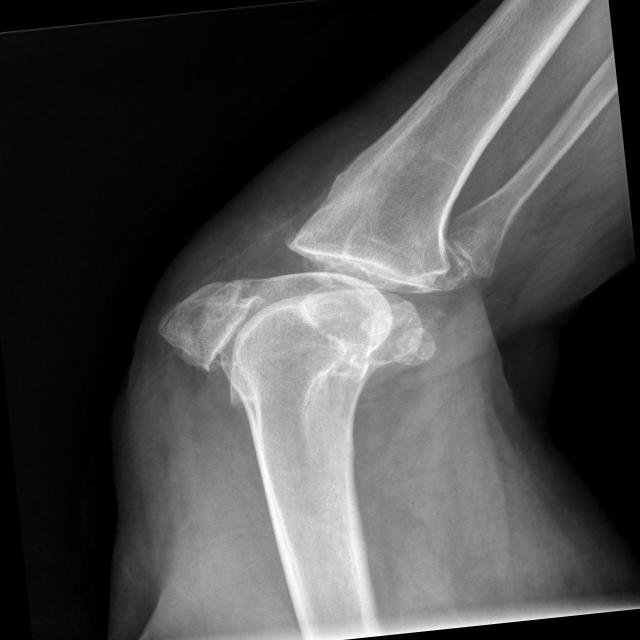Knee: (141, 214, 462, 418)
